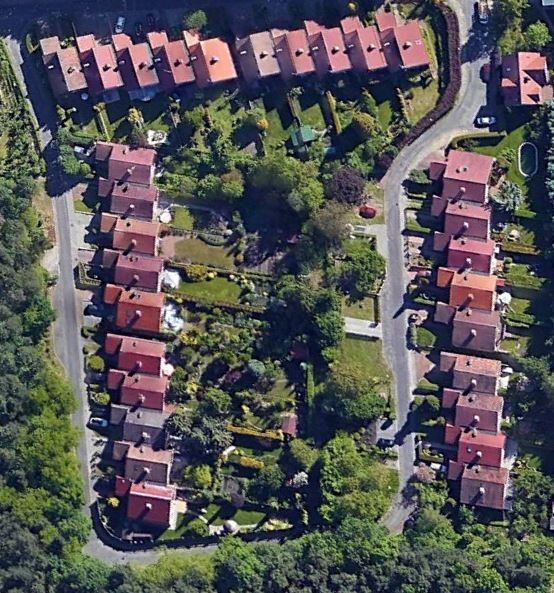family house: (498, 47, 554, 114)
terrace house: (31, 6, 437, 103), (412, 146, 518, 515), (92, 138, 182, 530)
